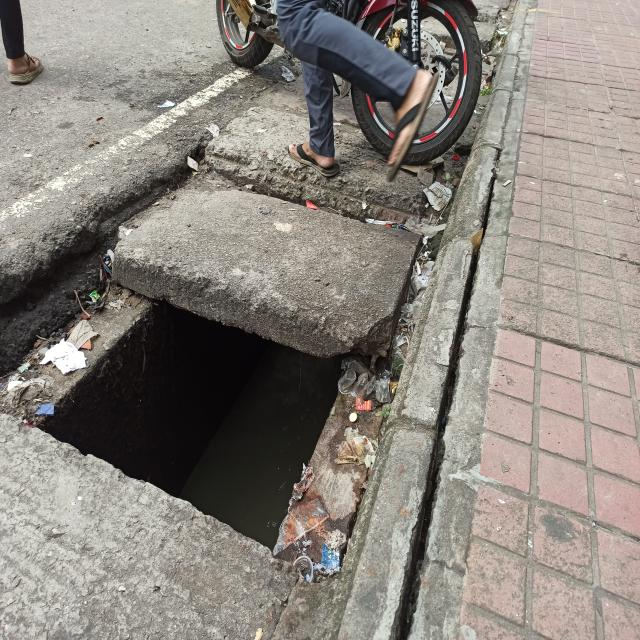drain_inlet: (2, 266, 356, 550)
